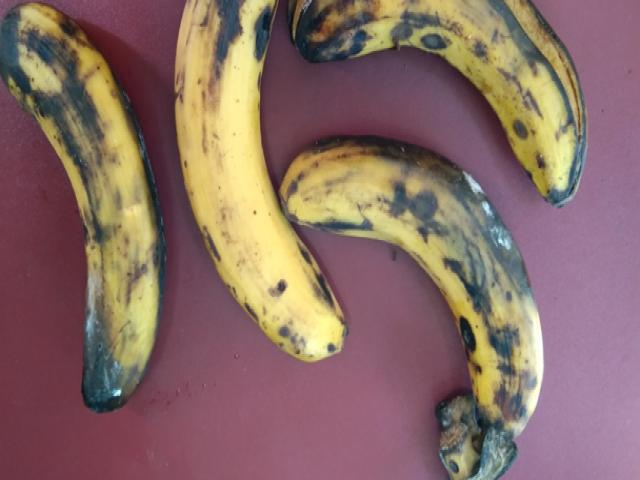overripe: (154, 0, 360, 376)
rotten: (0, 0, 185, 405), (283, 128, 549, 407), (294, 0, 587, 214)
